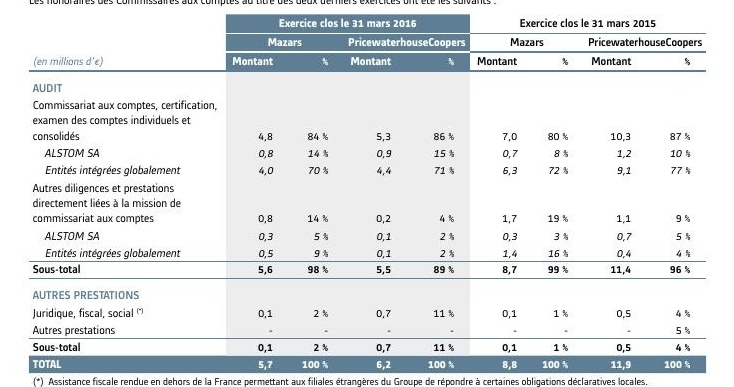table: (0, 0, 734, 387)
